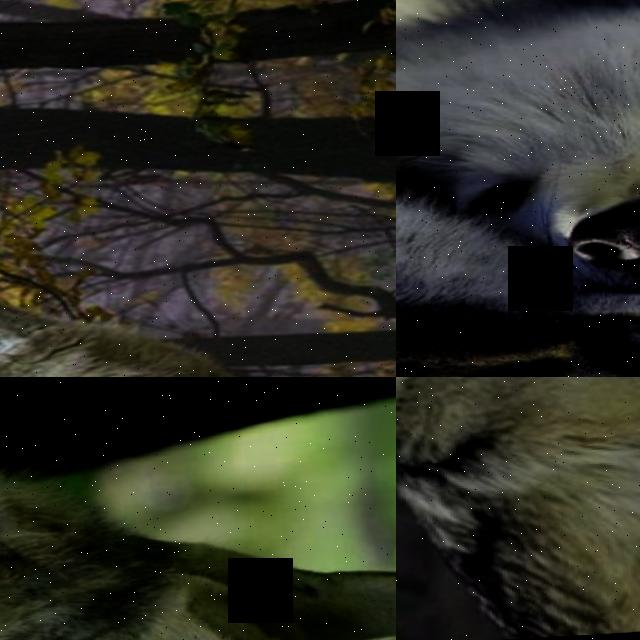wolf: (0, 377, 396, 640), (396, 0, 640, 377), (396, 75, 640, 377), (0, 199, 396, 377), (396, 377, 640, 640), (396, 0, 640, 176)
